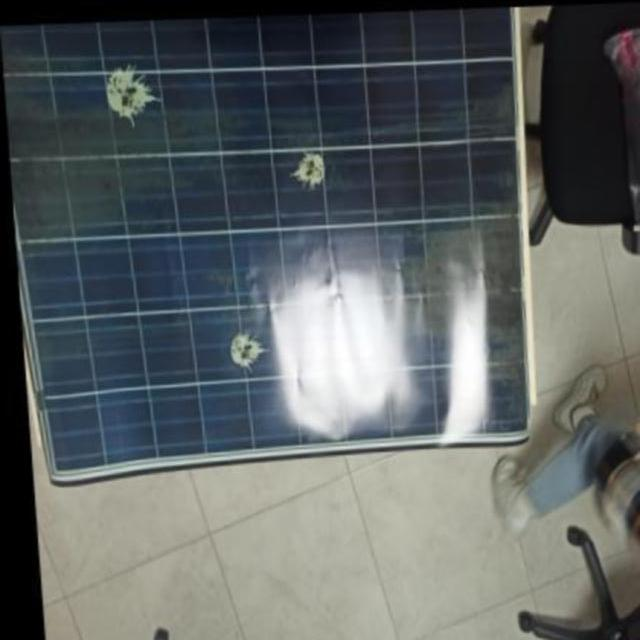soiled: (4, 6, 535, 485)
